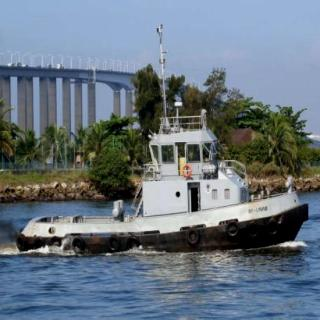Tug Boat: (21, 126, 314, 250)
